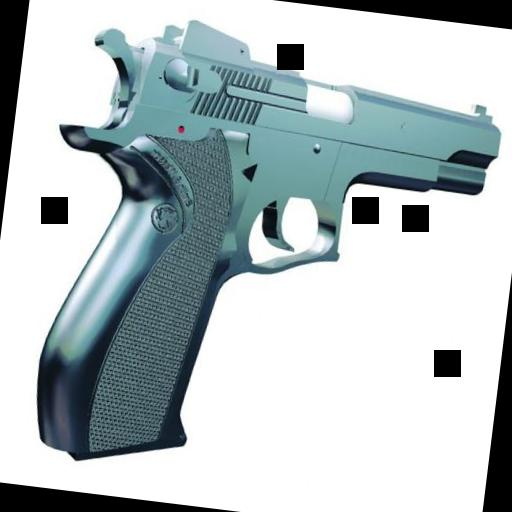Handgun: (18, 4, 509, 508)
